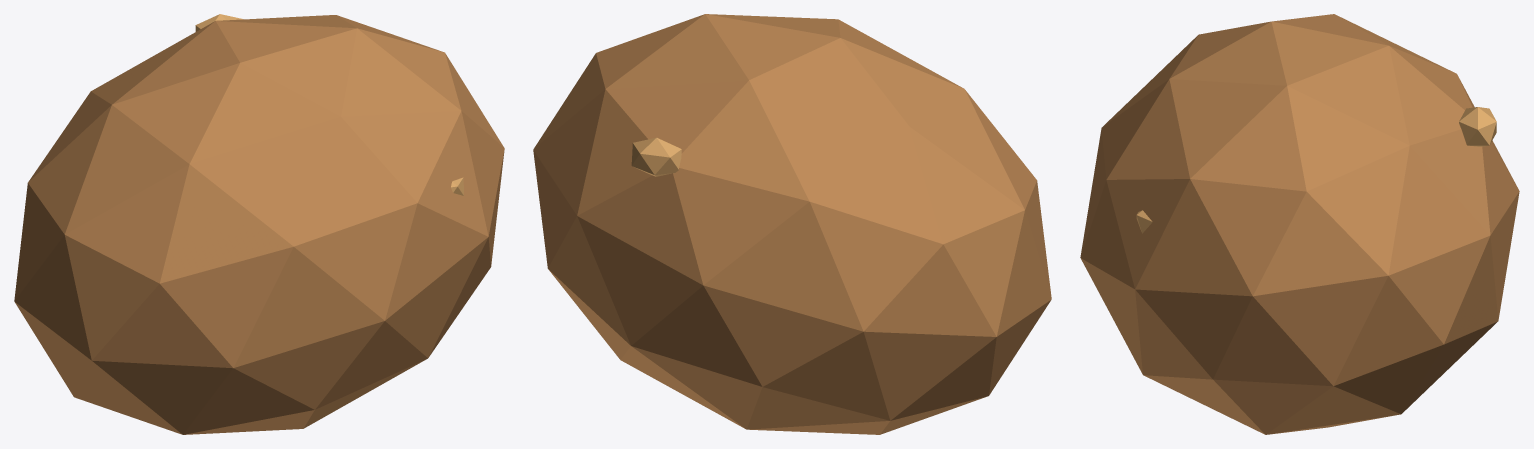
Rendered from harvest_drop_potato.glb.
3 renders of one model, left to right at view 1: azimuth 30°, elevation 25°; view 2: azimuth 150°, elevation 25°; view 3: azimuth 270°, elevation 25°, orthographic. The views are drawn at different scales.
Visible parts, largest first — view 1: Potato_Body; view 2: Potato_Body, Potato_Eye_0; view 3: Potato_Body, Potato_Eye_0.
Part boxes in pixels (box(x1,y1,x2,y2)): Potato_Body: box(14, 15, 504, 434); Potato_Body: box(533, 14, 1051, 434); Potato_Eye_0: box(631, 137, 681, 176); Potato_Body: box(1080, 14, 1519, 434); Potato_Eye_0: box(1136, 107, 1496, 233).
Size of the model in its own units: 0.4773 by 0.3697 by 0.3951.
